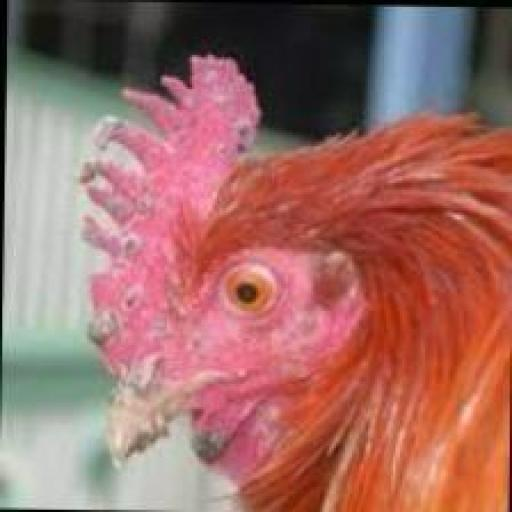disease: (63, 19, 258, 269), (68, 270, 266, 466)
